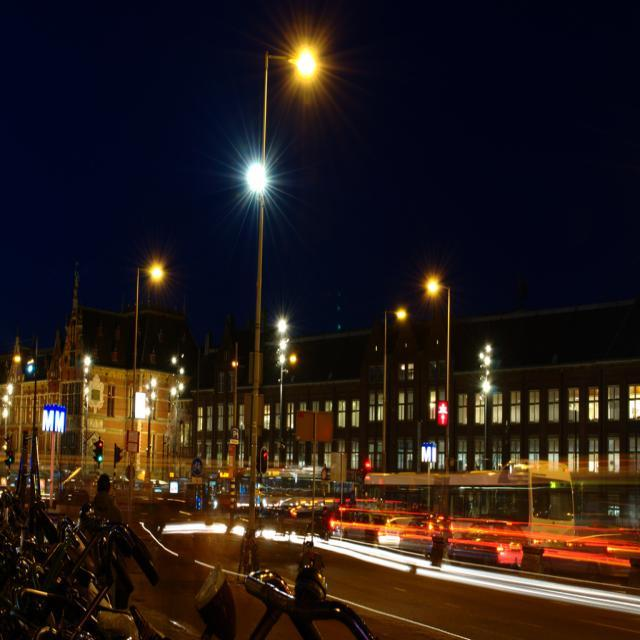traffic light: (260, 448, 267, 472), (96, 440, 103, 462)
